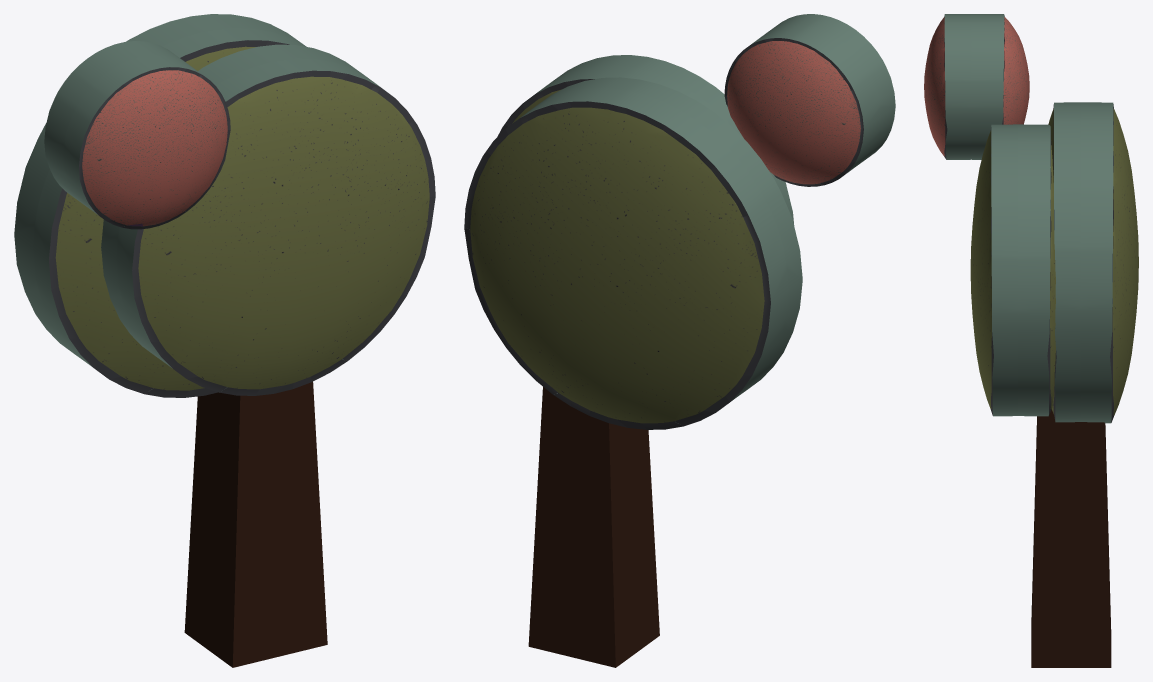
The model's file is Tree 07.fbx.
3 views of the same model, side by side, from view 1: azimuth 30°, elevation 25°; view 2: azimuth 150°, elevation 25°; view 3: azimuth 270°, elevation 25° (orthographic). The views are drawn at different scales.
Parts seen in each view (by area): view 1: tree_17_00, tree_17_trunk, tree_17_01, tree_17_02; view 2: tree_17_02, tree_17_trunk, tree_17_01, tree_17_00; view 3: tree_17_02, tree_17_00, tree_17_trunk, tree_17_01.
Part boxes in pixels (box(x1,y1,x2,y2)): tree_17_00: box(101, 44, 435, 395); tree_17_trunk: box(184, 381, 327, 667); tree_17_01: box(44, 41, 230, 229); tree_17_02: box(14, 14, 306, 397); tree_17_02: box(464, 77, 802, 429); tree_17_trunk: box(528, 387, 659, 667); tree_17_01: box(724, 14, 895, 186); tree_17_00: box(497, 55, 794, 225); tree_17_02: box(1048, 102, 1138, 423); tree_17_00: box(970, 124, 1055, 416); tree_17_trunk: box(1031, 409, 1111, 667); tree_17_01: box(924, 14, 1029, 159).
Bounding box in the file's own units: 12.63 × 20.97 × 7.35.
